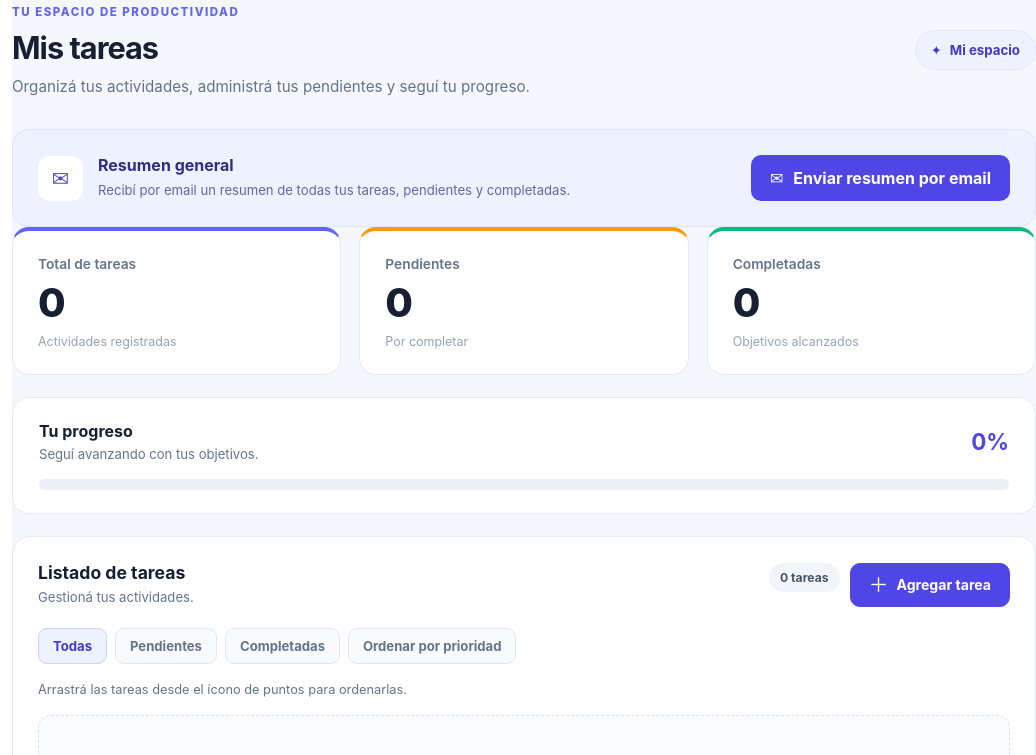
it: TasksPage › envía el resumen cuando el usuario hace clic
Click the button "✉ Enviar resumen por email".
click(880, 178)  # box [751, 155, 1010, 201]
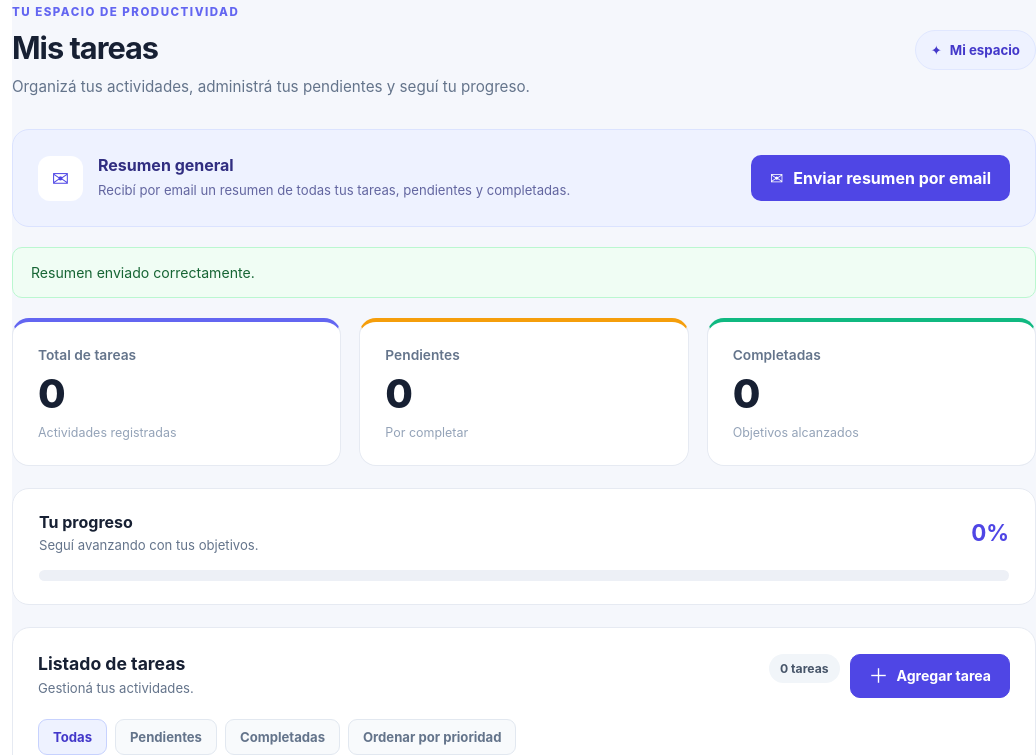
Check: the text "Resumen enviado correctamente." is shown, box [12, 247, 1035, 298]
